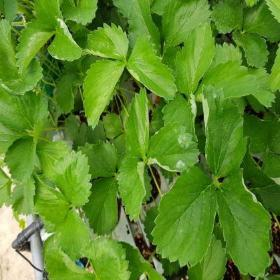Powdery Mildew Leaf: (149, 164, 217, 268), (216, 167, 274, 279), (202, 83, 248, 178), (146, 122, 201, 172), (161, 91, 198, 143), (124, 86, 150, 160), (47, 15, 82, 62)
